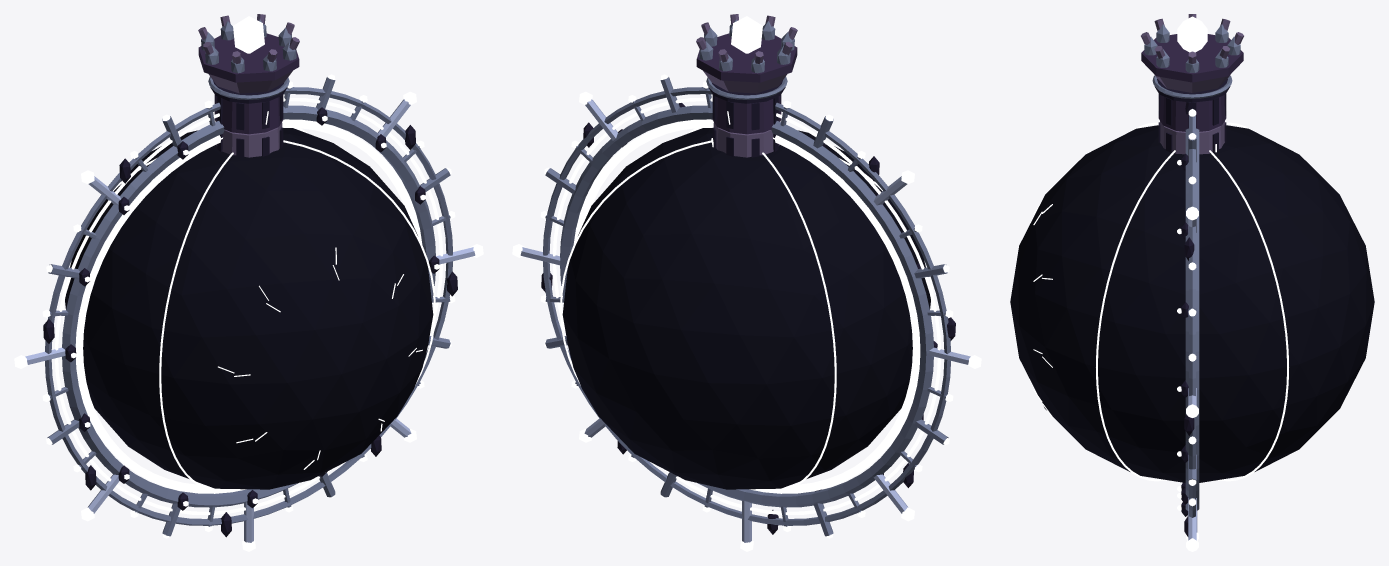
File: raid-props.glb
3 renders of one model, left to right at view 1: azimuth 30°, elevation 25°; view 2: azimuth 150°, elevation 25°; view 3: azimuth 270°, elevation 25°, orthographic.
Parts seen in each view (by area): view 1: raid-sun-carved-mesh, raid-column-carved-mesh; view 2: raid-sun-carved-mesh, raid-column-carved-mesh; view 3: raid-sun-carved-mesh, raid-column-carved-mesh.
Part boxes in pixels (bbox=[...]): raid-sun-carved-mesh: bbox=[14, 74, 483, 551]; raid-column-carved-mesh: bbox=[198, 14, 299, 157]; raid-sun-carved-mesh: bbox=[512, 74, 981, 551]; raid-column-carved-mesh: bbox=[696, 14, 797, 157]; raid-sun-carved-mesh: bbox=[1010, 102, 1374, 551]; raid-column-carved-mesh: bbox=[1141, 14, 1243, 154].
Bounding box in the file's own units: 11.74 × 12.86 × 8.06.
